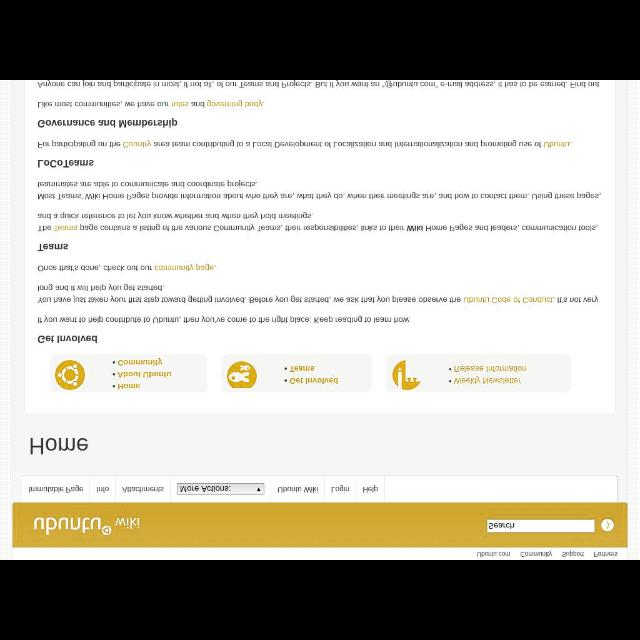button: (602, 520, 614, 530)
icon: (255, 487, 261, 493), (606, 522, 610, 528), (284, 366, 288, 372), (448, 368, 454, 372), (112, 384, 116, 388), (112, 372, 116, 376), (112, 361, 116, 365), (284, 379, 288, 383), (449, 379, 453, 383)
image: (54, 360, 86, 390), (392, 361, 422, 389), (226, 362, 258, 388)
input: (488, 520, 596, 532)
multitab: (24, 477, 616, 501)
spinner: (176, 484, 264, 494)
text: (38, 281, 598, 305), (36, 178, 602, 200), (37, 211, 599, 233), (38, 139, 572, 149), (36, 81, 602, 89), (35, 314, 412, 324), (36, 96, 266, 110), (38, 115, 178, 128), (37, 262, 217, 272), (32, 512, 102, 536), (29, 436, 87, 456), (454, 375, 524, 385), (38, 334, 98, 344), (37, 157, 93, 167), (28, 484, 82, 494), (180, 484, 232, 494), (291, 376, 339, 386), (453, 366, 527, 372), (276, 484, 320, 494), (118, 358, 162, 368), (119, 371, 173, 379), (122, 484, 164, 494), (114, 514, 142, 528), (38, 241, 68, 253), (518, 549, 552, 559), (477, 551, 511, 559), (488, 520, 514, 530), (290, 364, 316, 374), (117, 380, 141, 390), (360, 484, 380, 494), (561, 550, 585, 558), (594, 550, 618, 558), (330, 485, 350, 493), (95, 485, 108, 493)
toolbar: (13, 502, 627, 548)
